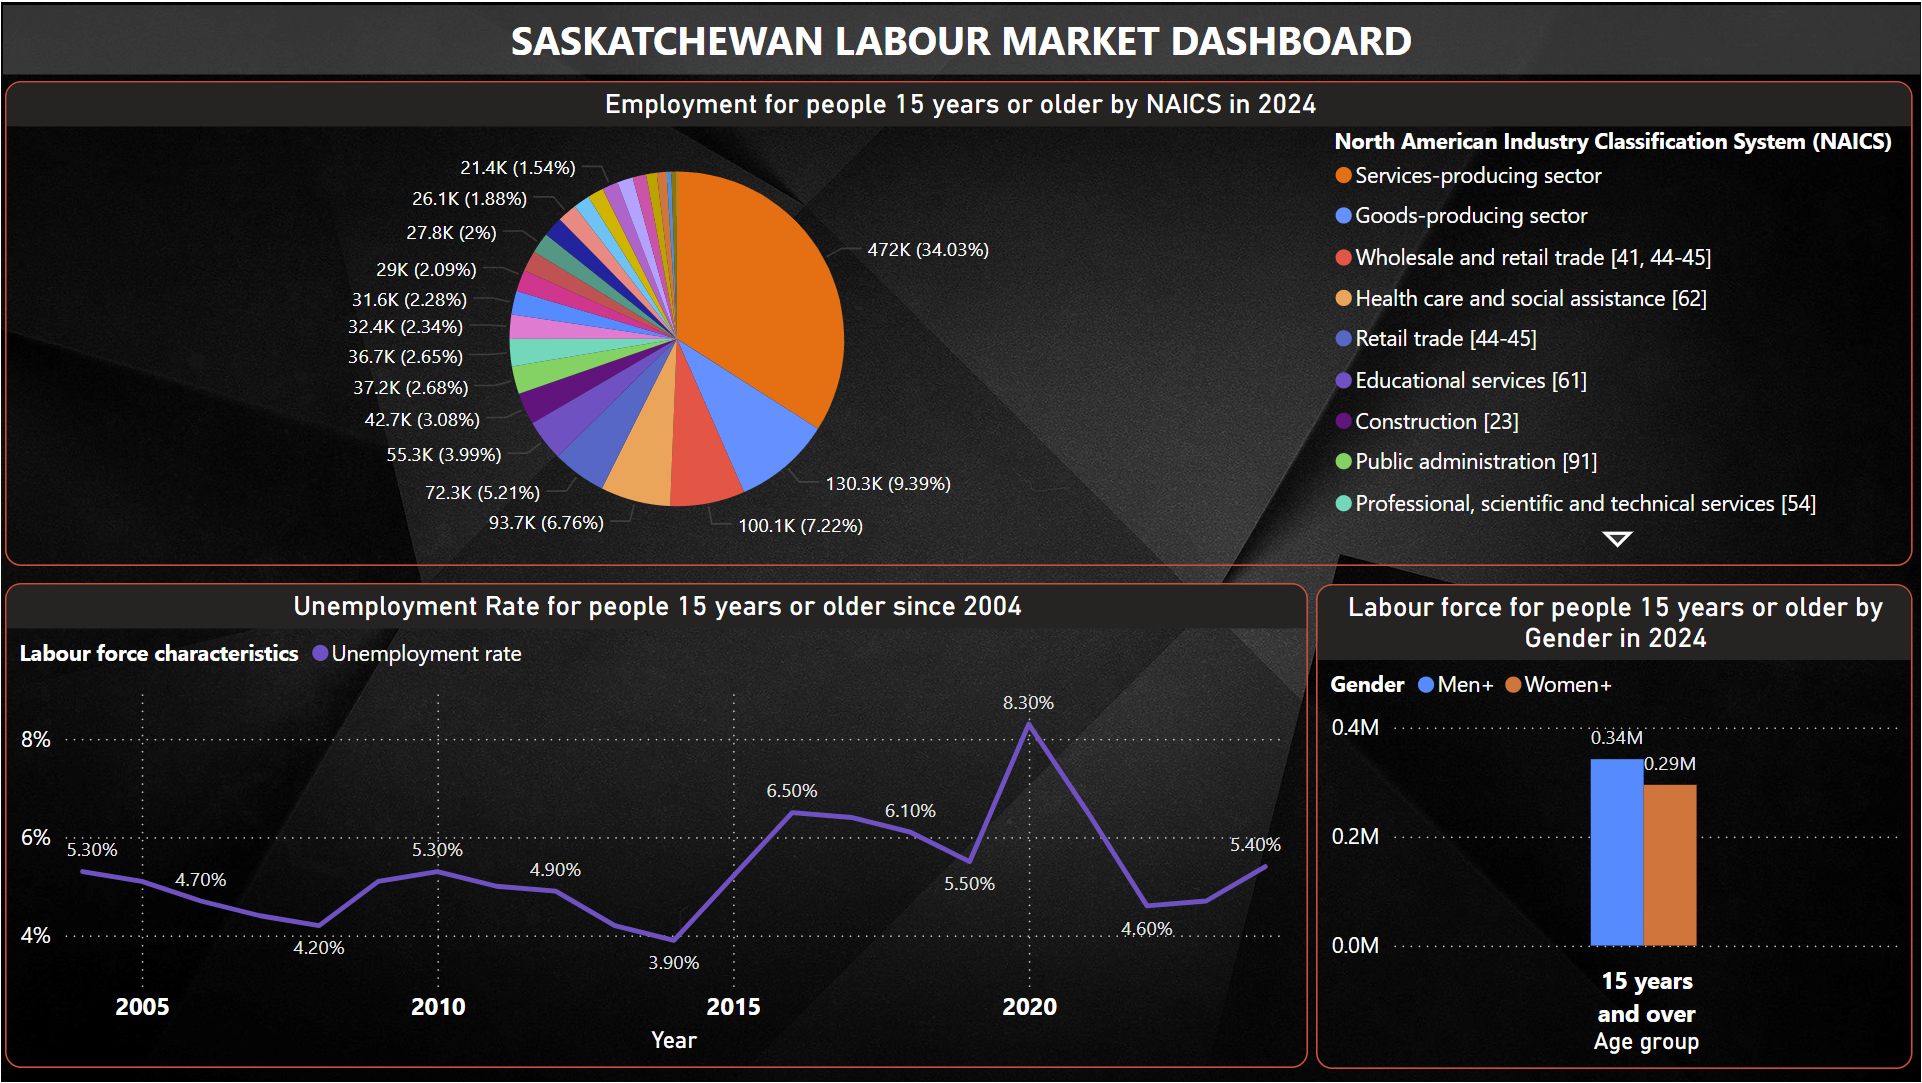

This screenshot's page, from the dashboard's own definition file:
{"tool":"powerbi","page":{"name":"Page 1","canvas":[1280,720],"ordinal":0},"visuals":[{"type":"pieChart","title":"Employment for people 15 years or older by NAICS in 2024","fields":{"Category":["Data.North American Industry Classification System (NAICS)"],"Y":["Sum(Data.ValueCalc)"]},"box":[59.4,76.1,1180.2,300],"z":0},{"type":"lineChart","title":"Unemployment Rate for people 15 years or older since 2004","fields":{"Series":["Data.Labour force characteristics"],"Category":["Data.REF_DATE"],"Y":["Sum(Data.ValueCalc%)"]},"box":[59.6,386.7,805.6,299.7],"z":1000},{"type":"textbox","box":[58.1,29.1,1185.8,42.7],"z":2000},{"type":"clusteredColumnChart","title":"Labour force for people 15 years or older by Gender in 2024","fields":{"Category":["Data.Age group"],"Series":["Data.Gender"],"Y":["Sum(Data.ValueCalc)"]},"box":[870,387,369,300],"z":3000}]}

Visuals, with their boxes in screenshot pixels (x1, y1, x2, y2), scaled from the page's 1280x720 canvas onto the 1922x1083 screenshot:
"Employment for people 15 years or older by NAICS in 2024" pieChart: Rect(89, 114, 1861, 566)
"Unemployment Rate for people 15 years or older since 2004" lineChart: Rect(89, 582, 1299, 1032)
textbox: Rect(87, 44, 1868, 108)
"Labour force for people 15 years or older by Gender in 2024" clusteredColumnChart: Rect(1306, 582, 1860, 1033)
